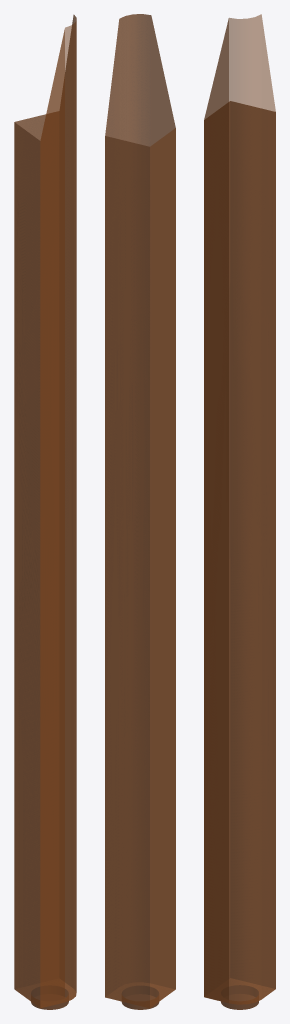
3 views of the same model, side by side, from view 1: azimuth 30°, elevation 25°; view 2: azimuth 150°, elevation 25°; view 3: azimuth 330°, elevation 25° (orthographic).
Bounding box in the file's own units: 0.0289 × 0.6009 × 0.0289.
